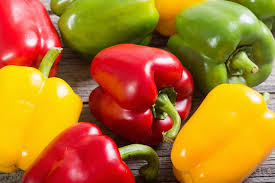Pepper: (86, 44, 197, 144), (169, 1, 275, 98)
